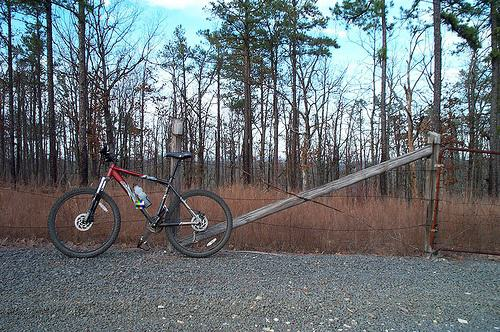car: (47, 152, 234, 259)
